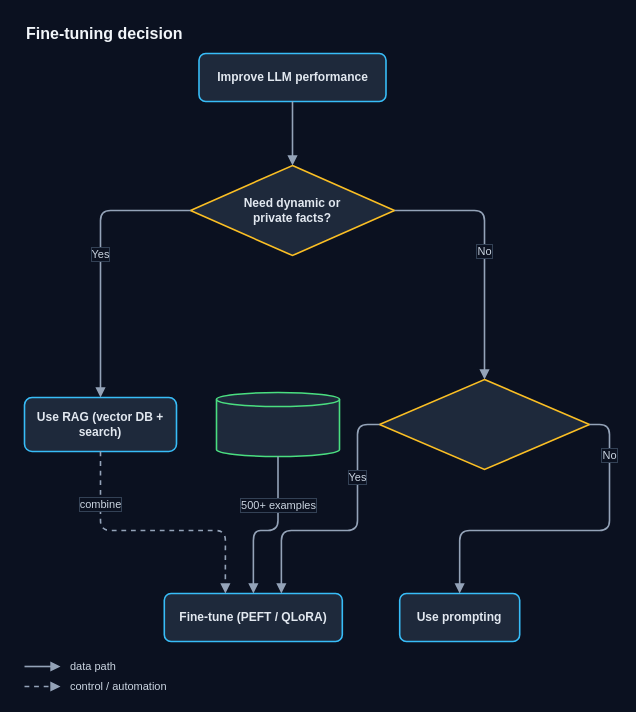
Some shapes in this 636 by 712 pixel diagram are drawn without their labels. The centre of each missing label's shape, as x and y in pixels:
"Curated dataset" belongs at pixel 277 424.
"Need custom tone or structure?" belongs at pixel 484 424.
